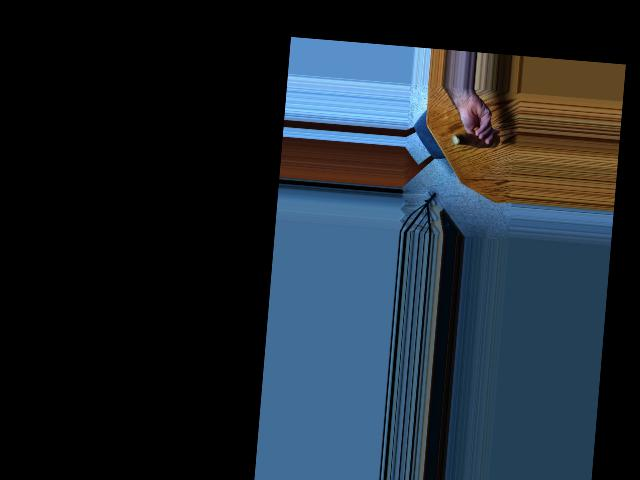sweet_potato: (450, 126, 501, 150)
